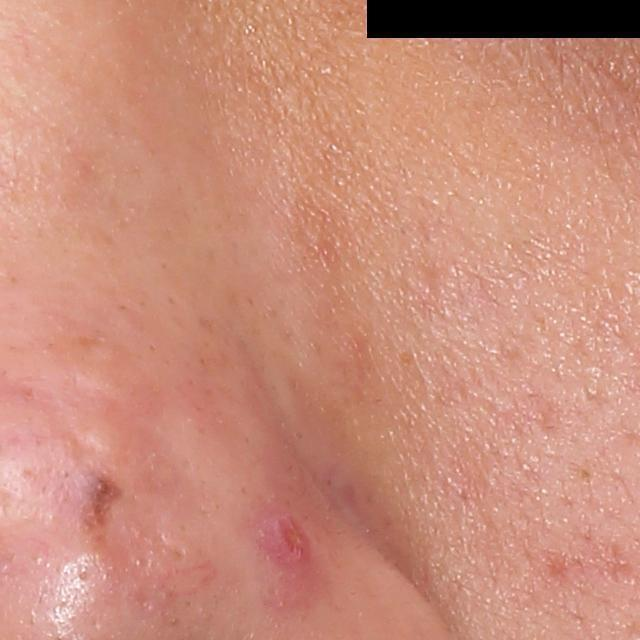nevus: (80, 470, 122, 532)
papule: (251, 506, 310, 569)
